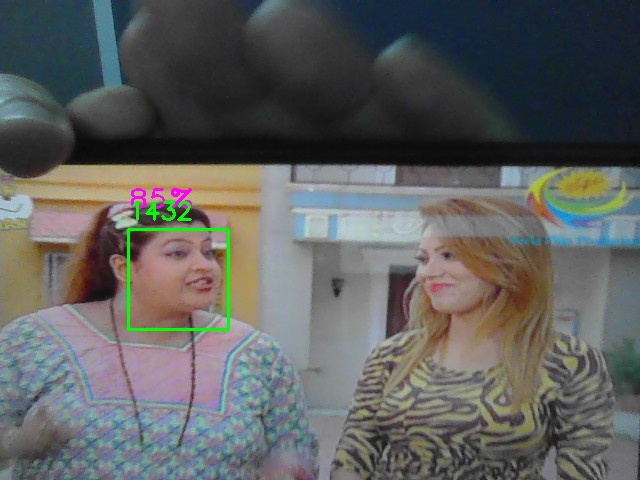fake: (128, 229, 229, 330)
